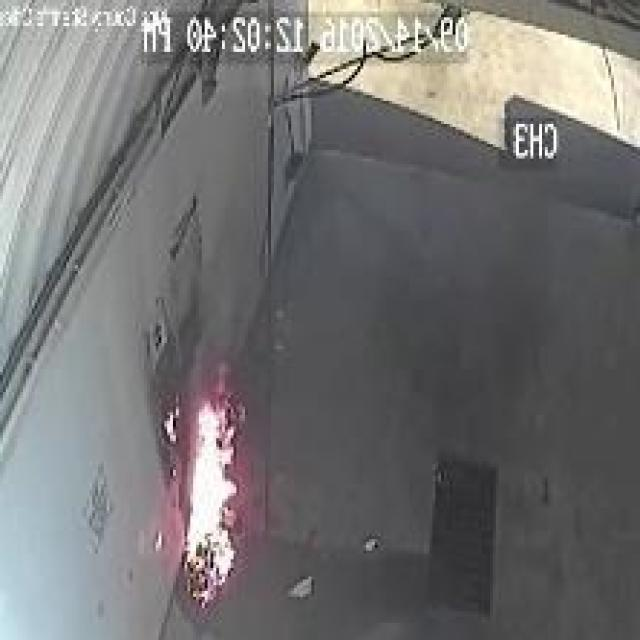smoke: (179, 386, 251, 608)
